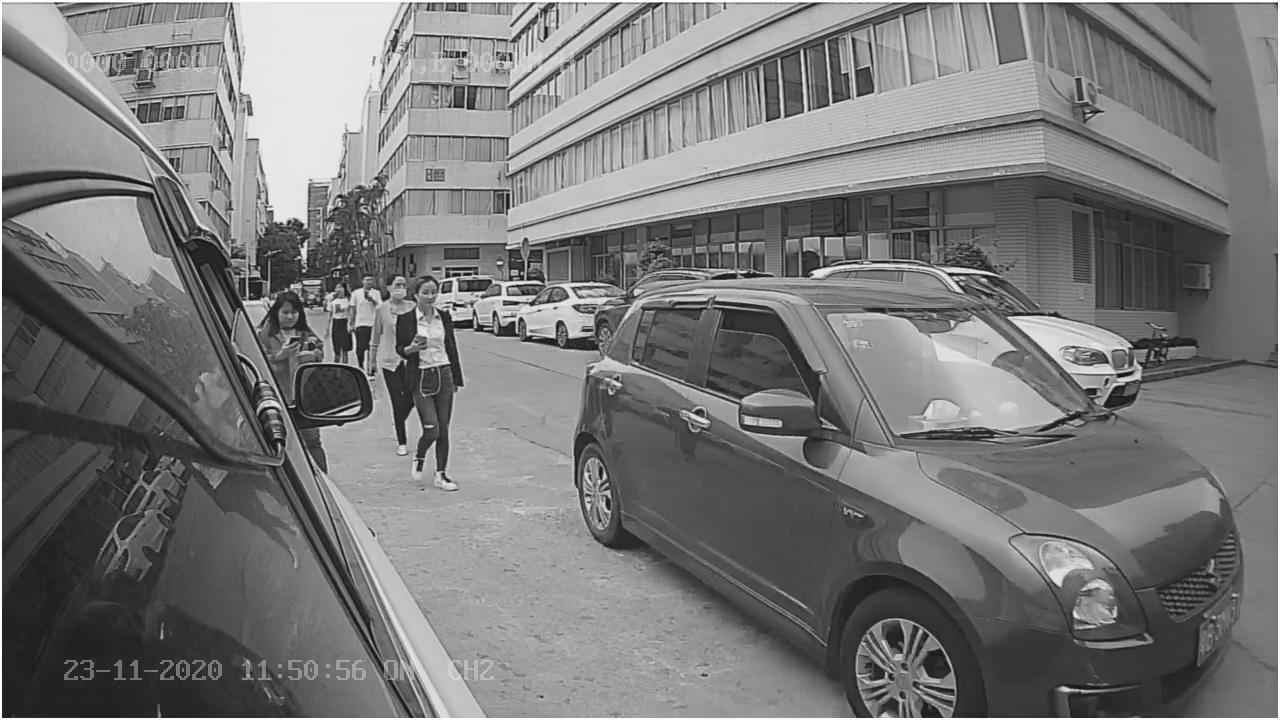person: (390, 272, 491, 493)
